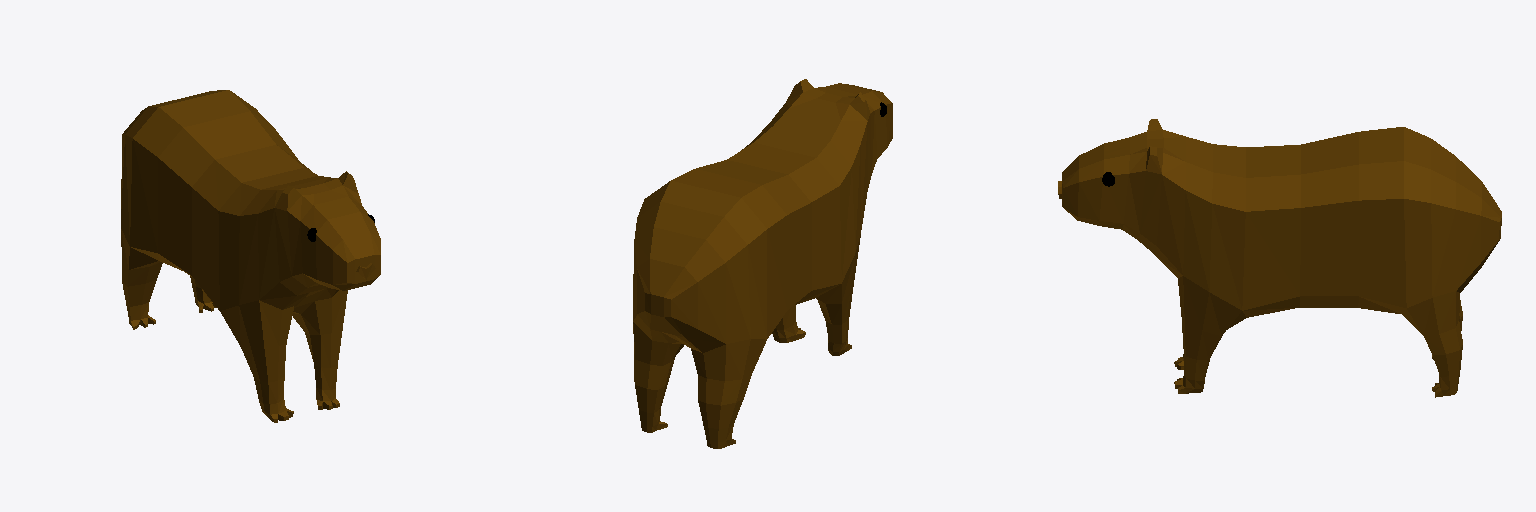
3 renders of one model, left to right at view 1: azimuth 30°, elevation 25°; view 2: azimuth 150°, elevation 25°; view 3: azimuth 270°, elevation 25°, orthographic.
Parts seen in each view (by area): view 1: Body.001; view 2: Body.001; view 3: Body.001.
Boxes of the visible parts, box(x1,y1,x2,y2) form: Body.001: box(121, 90, 380, 422); Body.001: box(633, 79, 892, 448); Body.001: box(1062, 119, 1501, 397).
Size of the model in its own units: 1.52 by 2.85 by 4.65.
Materials: 3 (2 with a texture image).